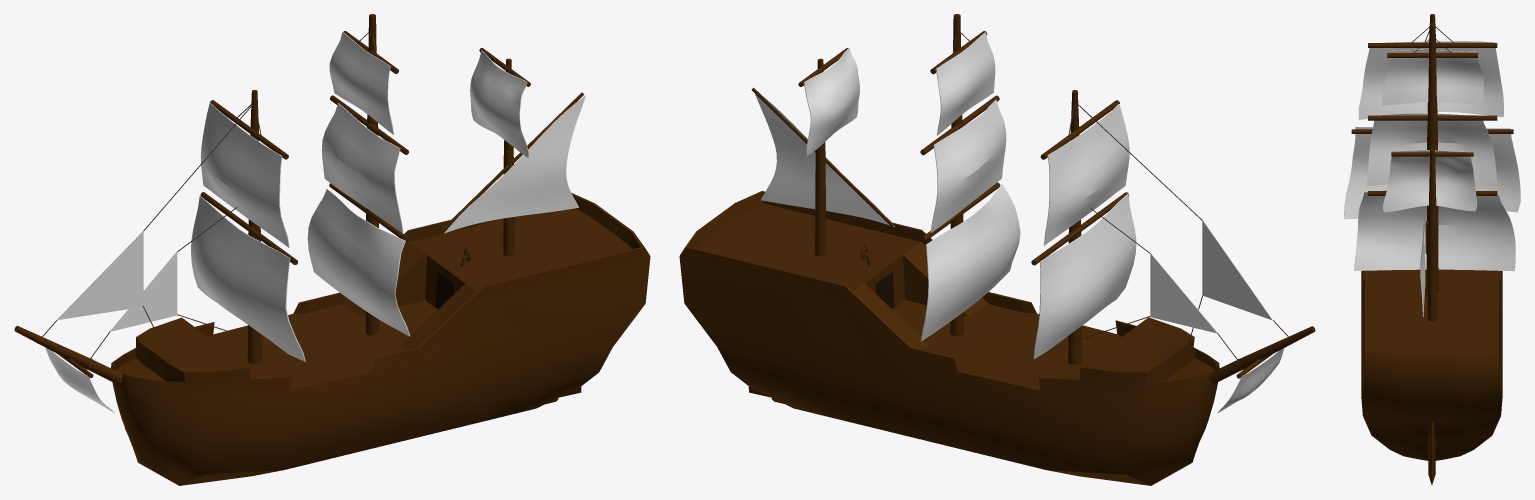
Rendered from BarcoTex.fbx.
The picture shows the model from 3 angles, left to right: view 1: azimuth 30°, elevation 25°; view 2: azimuth 150°, elevation 25°; view 3: azimuth 270°, elevation 25°; orthographic projection. The views are drawn at different scales.
Visible parts, largest first — view 1: Casco, Vela, Vela.002, Vela.001, VelaLatina, Vela.003, Vela.004, Vela.005, Foque, Contrafoque, Baupres, Vela.006 (+4 smaller); view 2: Casco, Vela, Vela.002, Vela.001, Vela.003, VelaLatina, Vela.005, Vela.004, Foque, Contrafoque, Mesana, Baupres (+5 smaller); view 3: Casco, Vela.002, Vela.003, Vela.005, Vela.004, Vela.001, Vela, Mesana, Palo Mayor, Cruzeta.005, Cruzeta.002, Timon (+4 smaller).
Boxes of the visible parts, <box> form: Casco: <box>111,193,650,485</box>; Vela: <box>191,196,305,361</box>; Vela.002: <box>307,188,410,336</box>; Vela.001: <box>200,102,289,247</box>; VelaLatina: <box>444,95,585,233</box>; Vela.003: <box>321,103,403,233</box>; Vela.004: <box>329,32,394,134</box>; Vela.005: <box>470,50,528,157</box>; Foque: <box>57,231,143,320</box>; Contrafoque: <box>110,251,177,331</box>; Baupres: <box>14,326,122,383</box>; Vela.006: <box>45,348,114,413</box>; Casco: <box>679,191,1219,485</box>; Vela: <box>1033,193,1136,359</box>; Vela.002: <box>920,184,1020,341</box>; Vela.001: <box>1044,104,1129,245</box>; Vela.003: <box>930,99,1006,232</box>; VelaLatina: <box>755,93,894,226</box>; Vela.005: <box>804,48,859,155</box>; Vela.004: <box>936,32,995,135</box>; Foque: <box>1202,219,1272,320</box>; Contrafoque: <box>1150,253,1217,333</box>; Mesana: <box>815,58,826,256</box>; Baupres: <box>1208,326,1315,384</box>; Casco: <box>1361,269,1502,460</box>; Vela.002: <box>1354,190,1515,271</box>; Vela.003: <box>1367,113,1496,185</box>; Vela.005: <box>1383,150,1477,212</box>; Vela.004: <box>1382,49,1483,105</box>; Vela.001: <box>1358,41,1503,119</box>; Vela: <box>1344,127,1520,219</box>; Mesana: <box>1427,149,1437,321</box>; Palo Mayor: <box>1426,23,1438,291</box>; Cruzeta.005: <box>1368,115,1497,120</box>; Cruzeta.002: <box>1368,43,1497,47</box>; Timon: <box>1428,421,1435,485</box>.
Size of the model in its own units: 526 by 1811 by 1235.
